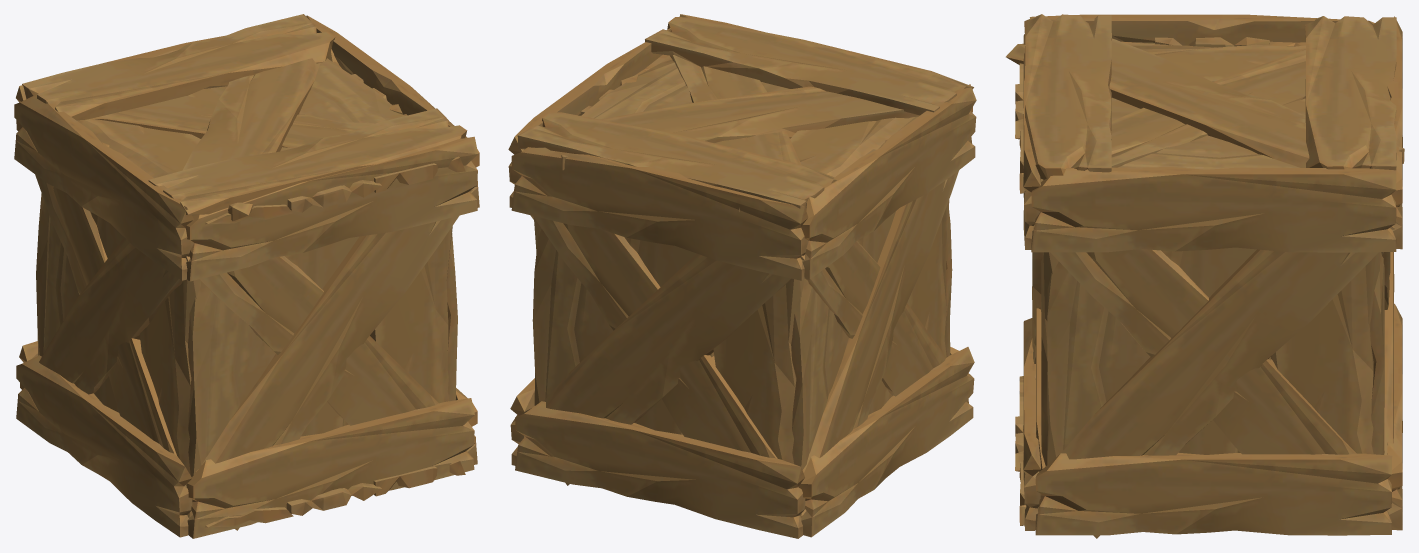
Rendered from Crate.fbx.
The picture shows the model from 3 angles, left to right: view 1: azimuth 30°, elevation 25°; view 2: azimuth 150°, elevation 25°; view 3: azimuth 270°, elevation 25°; orthographic projection. The views are drawn at different scales.
Visible parts, largest first — view 1: plank02_uv1__5__2, plank02_uv1__3__2, plank02_uv1__4__2, plank02_uv1__3__4, plank02_uv1__4__3, plank02_uv1__3__3, plank02_uv1__4__4, plank02_uv1__6__2, plank02_uv1__5__3, plank03_uv1_3, plank02_uv1__5__4, plank02_uv1__6__3 (+15 smaller); view 2: plank02_uv1__4_, plank02_uv1__3_, plank02_uv1__5_, plank02_uv1__4__3, plank02_uv1__4__4, plank02_uv1__3__3, plank02_uv1__6_, plank02_uv1__3__4, plank02_uv1__5__3, plank02_uv1__5__4, plank01_uv1_1, plank03_uv1_1 (+11 smaller); view 3: plank02_uv1__4__1, plank02_uv1__3__1, plank02_uv1__5__1, plank02_uv1__6__1, plank02_uv1__3__4, plank02_uv1__4__4, plank02_uv1__5__4, plank03_uv1_2, plank01_uv1_2, plank02_uv1__6__4, plank02_uv1__4__3, plank02_uv1_2 (+13 smaller).
Boxes of the visible parts, <box> form: plank02_uv1__5__2: <box>195,190,472,530</box>; plank02_uv1__3__2: <box>186,398,474,538</box>; plank02_uv1__4__2: <box>185,136,478,281</box>; plank02_uv1__3__4: <box>22,14,335,120</box>; plank02_uv1__4__3: <box>14,94,193,280</box>; plank02_uv1__3__3: <box>16,355,192,537</box>; plank02_uv1__4__4: <box>148,108,467,215</box>; plank02_uv1__6__2: <box>199,256,438,425</box>; plank02_uv1__5__3: <box>39,237,190,394</box>; plank03_uv1_3: <box>188,281,275,476</box>; plank02_uv1__5__4: <box>182,58,320,221</box>; plank02_uv1__6__3: <box>35,174,186,485</box>; plank02_uv1__4_: <box>511,147,808,280</box>; plank02_uv1__3_: <box>515,401,805,538</box>; plank02_uv1__5_: <box>543,253,804,485</box>; plank02_uv1__4__3: <box>801,84,976,279</box>; plank02_uv1__4__4: <box>645,17,973,115</box>; plank02_uv1__3__3: <box>799,347,974,537</box>; plank02_uv1__6_: <box>533,216,798,487</box>; plank02_uv1__3__4: <box>517,112,836,210</box>; plank02_uv1__5__3: <box>802,170,958,472</box>; plank02_uv1__5__4: <box>561,86,919,170</box>; plank01_uv1_1: <box>713,278,803,516</box>; plank03_uv1_1: <box>532,229,613,405</box>; plank02_uv1__4__1: <box>1031,167,1396,252</box>; plank02_uv1__3__1: <box>1035,452,1392,535</box>; plank02_uv1__5__1: <box>1061,226,1394,538</box>; plank02_uv1__6__1: <box>1050,249,1356,454</box>; plank02_uv1__3__4: <box>1305,16,1396,170</box>; plank02_uv1__4__4: <box>1024,14,1111,179</box>; plank02_uv1__5__4: <box>1006,38,1404,167</box>; plank03_uv1_2: <box>1047,261,1150,464</box>; plank01_uv1_2: <box>1271,252,1379,454</box>; plank02_uv1__6__4: <box>1111,49,1305,167</box>; plank02_uv1__4__3: <box>1030,14,1374,45</box>; plank02_uv1_2: <box>1161,247,1270,454</box>.
Bounding box in the file's own units: 261 × 281 × 274.
Materials: 2 (2 with a texture image).
